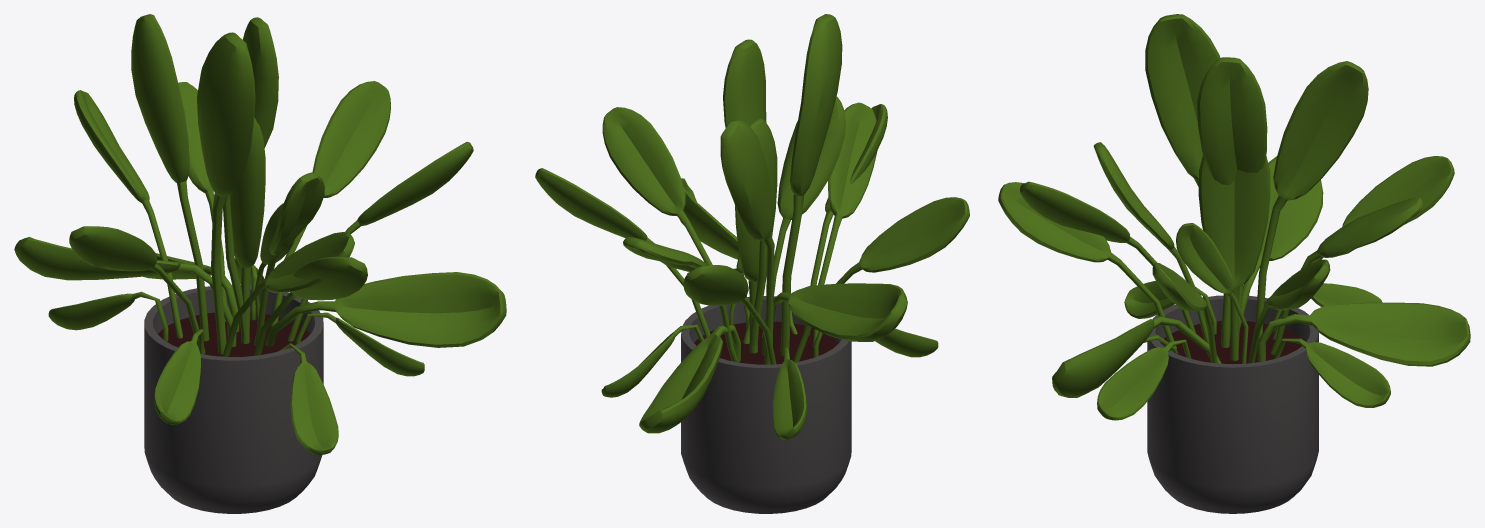
Rendered from kwiatek.fbx.
3 views of the same model, side by side, from view 1: azimuth 30°, elevation 25°; view 2: azimuth 150°, elevation 25°; view 3: azimuth 270°, elevation 25° (orthographic). The views are drawn at different scales.
Visible parts, largest first — view 1: Cube.001; view 2: Cube.001; view 3: Cube.001.
Boxes of the visible parts, x1,y1,x2,y2 form: Cube.001: (14, 14, 506, 513); Cube.001: (535, 14, 969, 513); Cube.001: (998, 14, 1470, 513).
Size of the model in its own units: 339 by 395 by 370.
